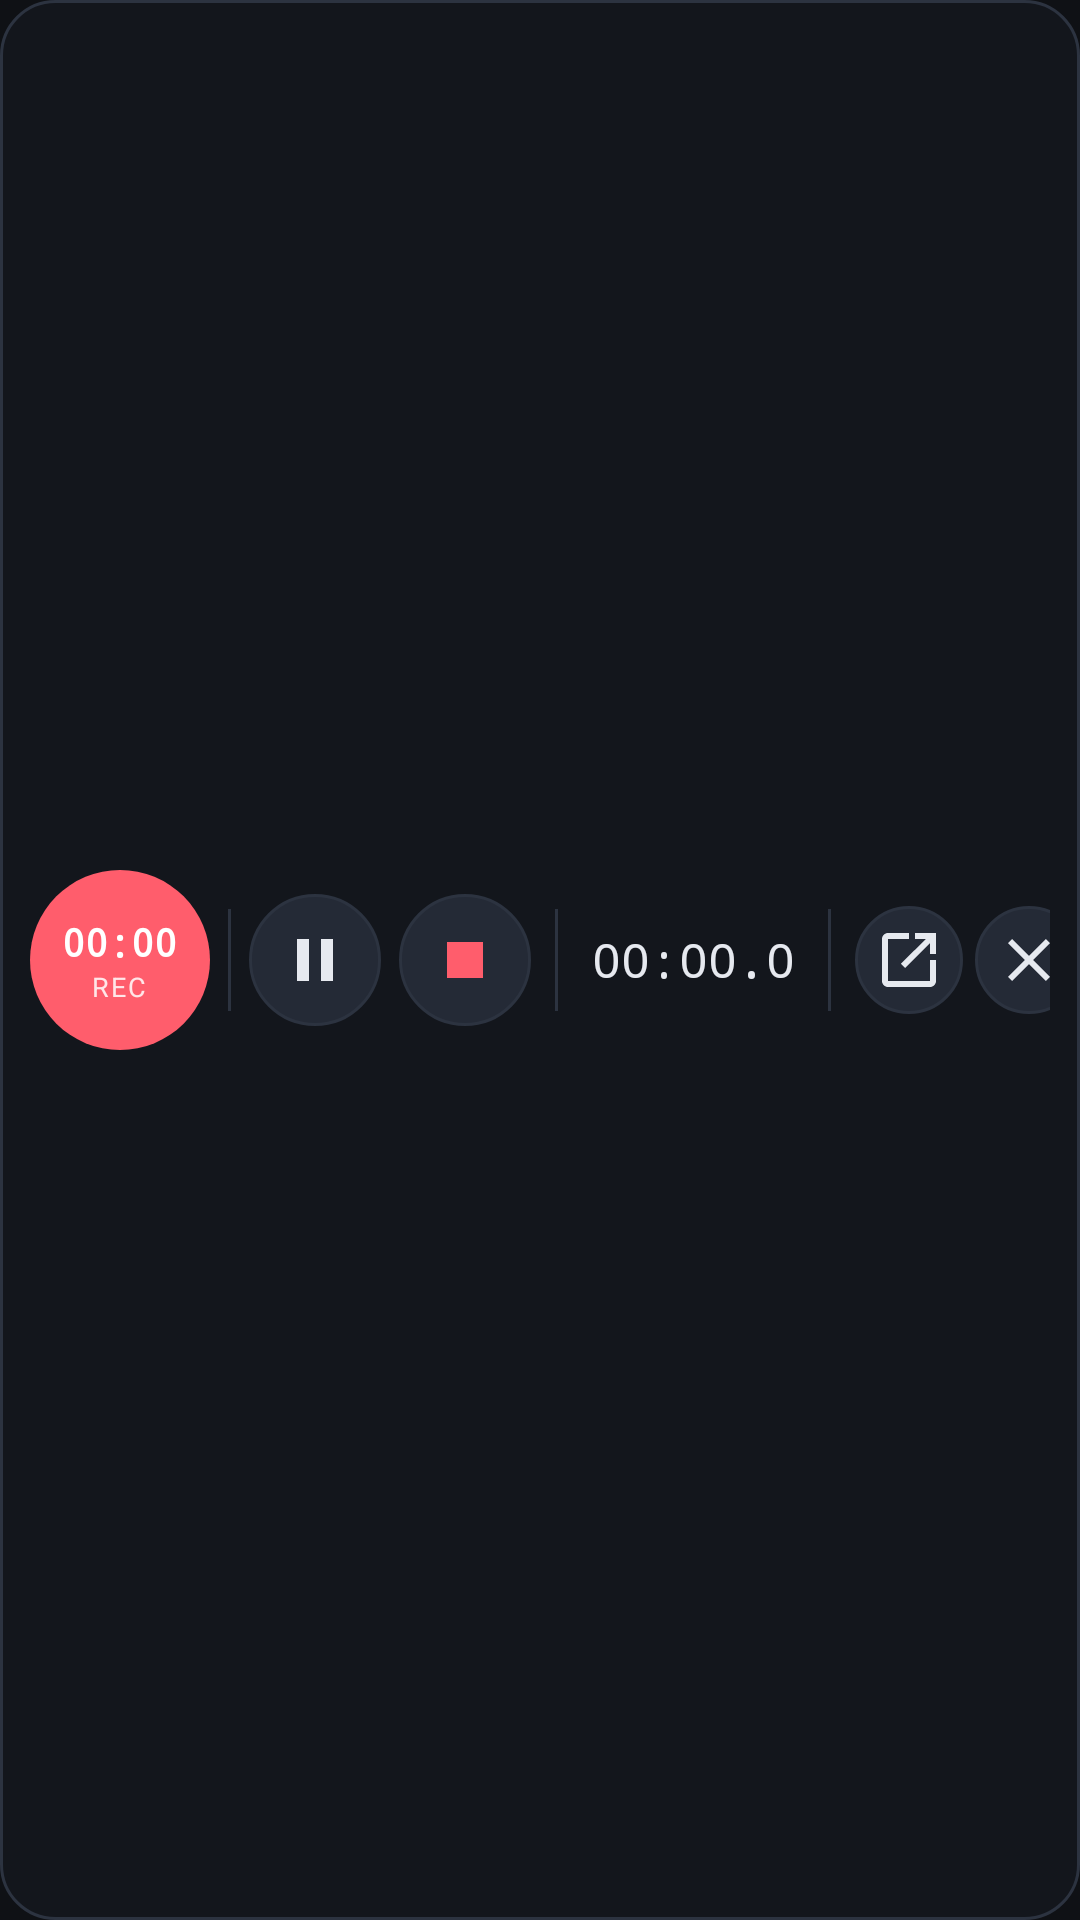

Icons on this 1080w x 1920h Android screen, each with its box as (x1, y1, x2, y2):
Открыть приложение: (855, 906, 963, 1014)
Пауза / Продолжить: (249, 894, 381, 1026)
Скрыть панель: (975, 906, 1050, 1014)
Стоп и отправить (удерживать 2 сек): (399, 894, 531, 1026)
